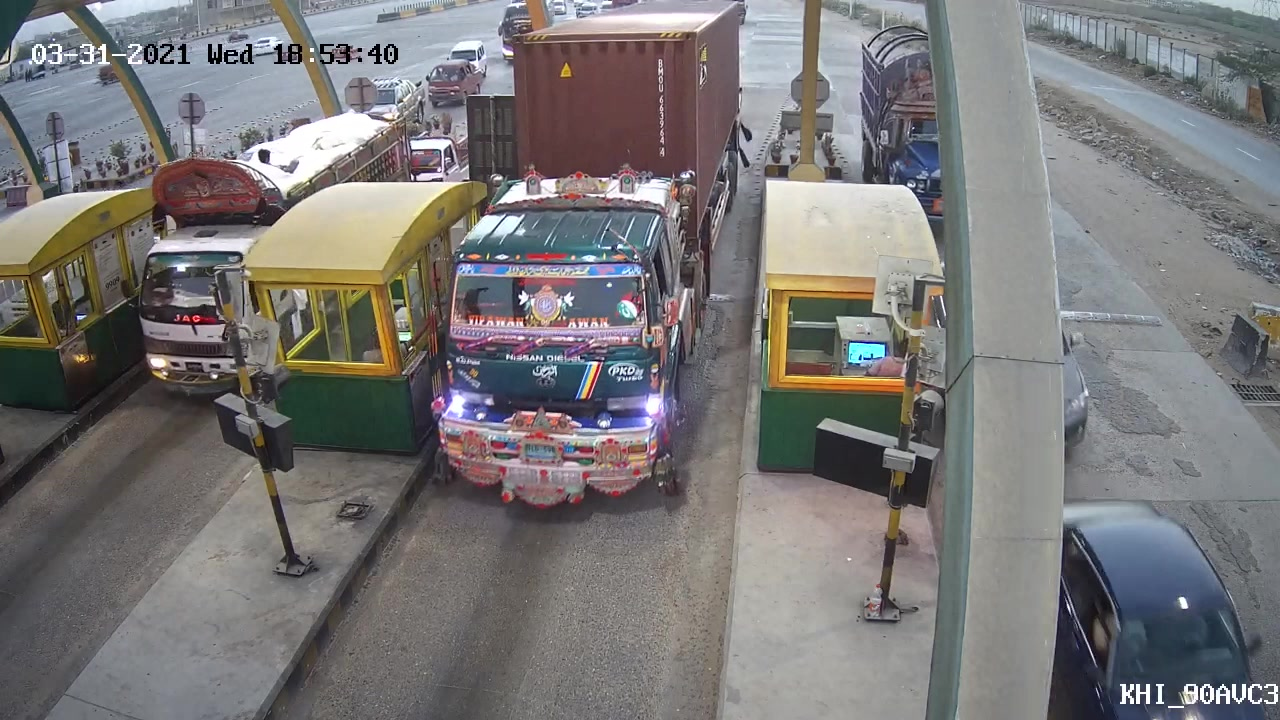F6: (419, 1, 753, 511)
